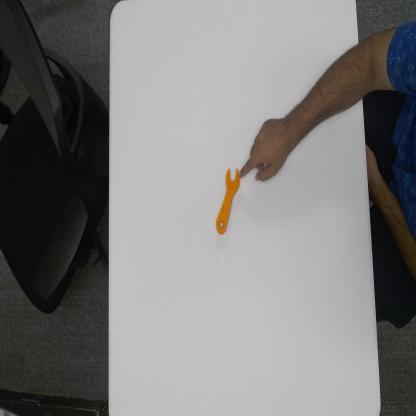Arm: (287, 37, 365, 151)
Hand: (238, 114, 286, 185)
Screwdriver: (214, 162, 242, 237)
